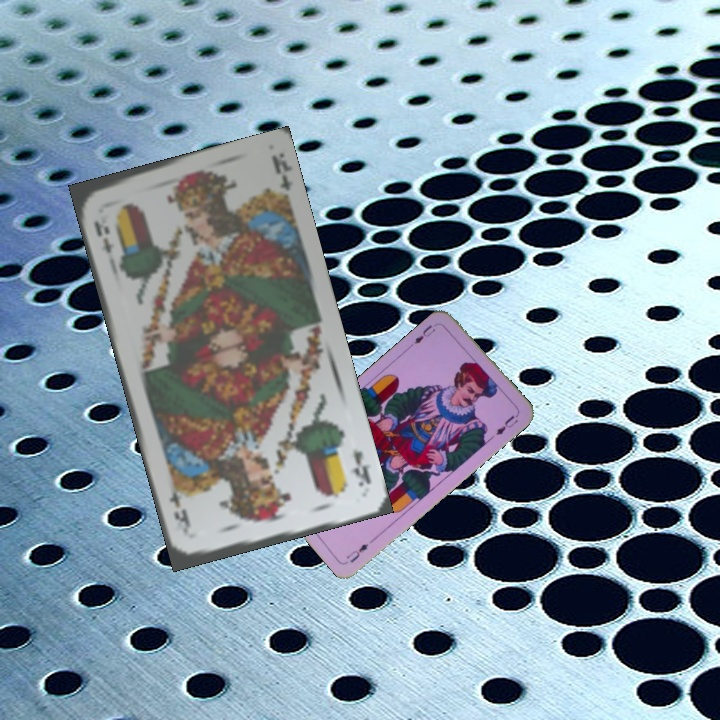EK: (348, 445, 374, 489), (90, 217, 118, 256)
EU: (410, 319, 441, 347), (342, 539, 371, 565)
